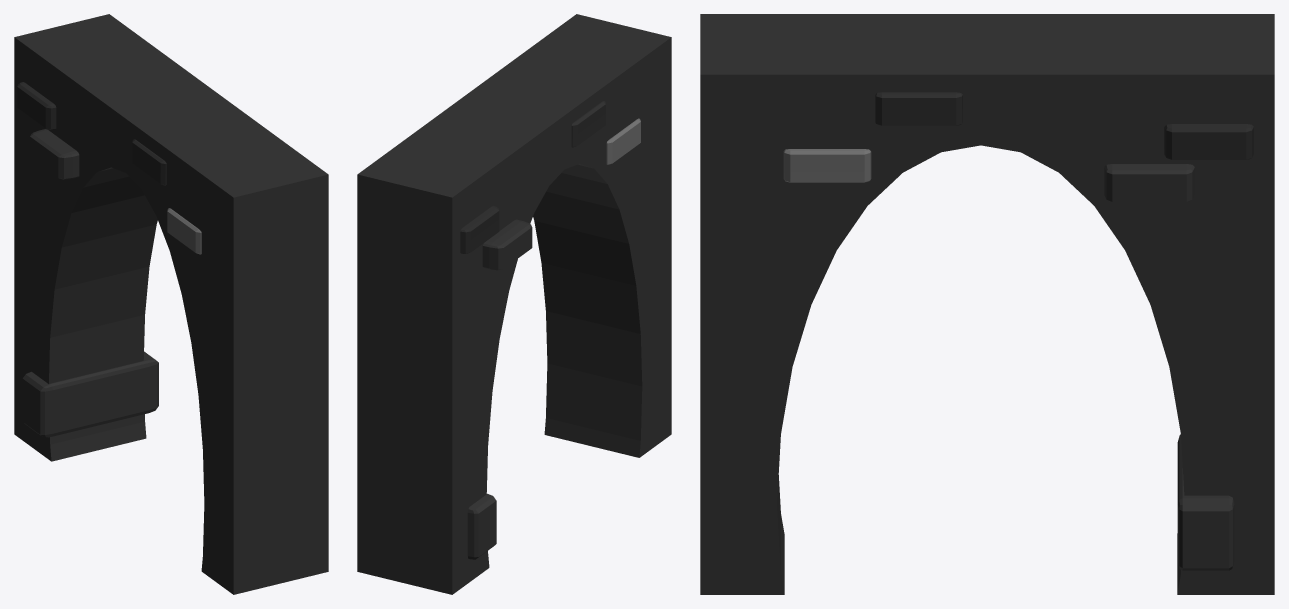
File: reskined-door1.fbx
The picture shows the model from 3 angles, left to right: view 1: azimuth 30°, elevation 25°; view 2: azimuth 150°, elevation 25°; view 3: azimuth 270°, elevation 25°; orthographic projection. The views are drawn at different scales.
Visible parts, largest first — view 1: door 1; view 2: door 1; view 3: door 1.
Boxes of the visible parts, x1,y1,x2,y2 form: door 1: [14, 14, 328, 594]; door 1: [357, 14, 671, 594]; door 1: [700, 14, 1274, 594].
Bounding box in the file's own units: 134 × 400 × 400.
